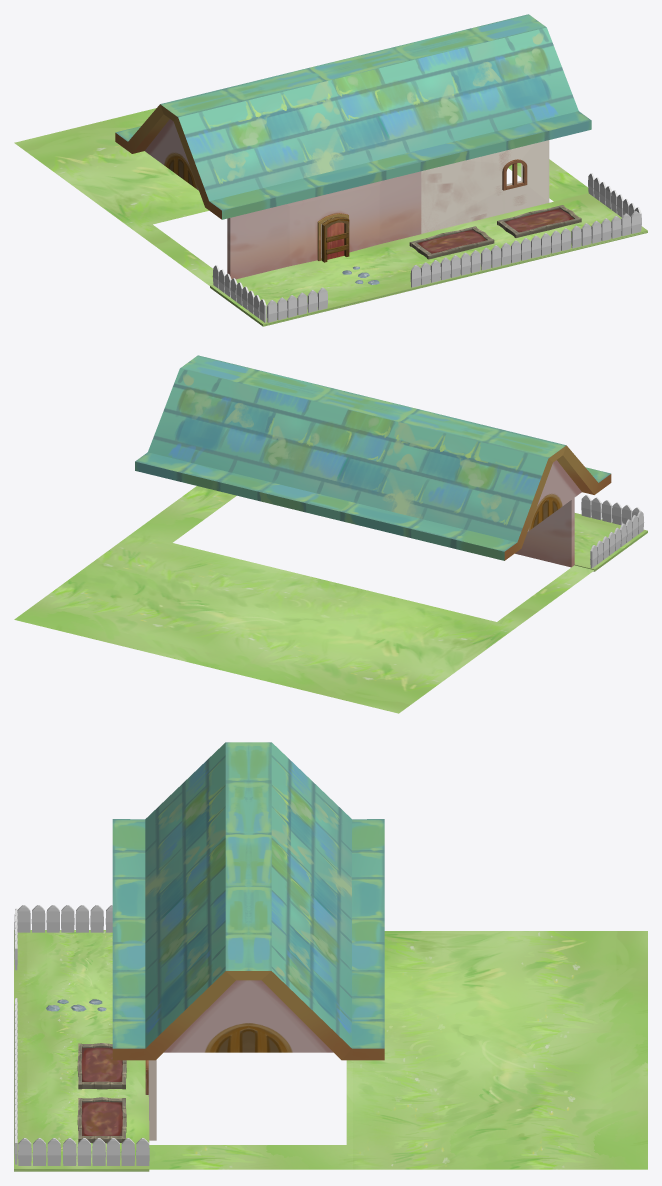
The model's file is Courtyard.fbx.
3 renders of one model, top to bottom at view 1: azimuth 30°, elevation 25°; view 2: azimuth 150°, elevation 25°; view 3: azimuth 270°, elevation 25°, orthographic. The views are drawn at different scales.
Visible parts, largest first — view 1: roof, YardFloor, Livingroom_Wall_Front, Fence, Bedroom_Wall_Front, Garden1, Garden2, Entrance; view 2: roof, YardFloor, Livingroom_Wall_Front, Fence; view 3: YardFloor, roof, Fence, Garden2, Garden1, Bedroom_Wall_Front.
Boxes of the visible parts, bbox=[...] form: roof: bbox=[115, 14, 591, 219]; YardFloor: bbox=[14, 108, 647, 326]; Livingroom_Wall_Front: bbox=[227, 171, 421, 279]; Fence: bbox=[212, 173, 641, 322]; Bedroom_Wall_Front: bbox=[421, 140, 549, 233]; Garden1: bbox=[409, 226, 494, 259]; Garden2: bbox=[497, 205, 581, 237]; Entrance: bbox=[321, 217, 349, 262]; roof: bbox=[135, 355, 611, 560]; YardFloor: bbox=[14, 486, 647, 713]; Livingroom_Wall_Front: bbox=[515, 498, 574, 567]; Fence: bbox=[581, 495, 644, 568]; YardFloor: bbox=[14, 930, 647, 1171]; roof: bbox=[112, 742, 384, 1060]; Fence: bbox=[14, 905, 149, 1165]; Garden2: bbox=[77, 1097, 126, 1143]; Garden1: bbox=[77, 1043, 126, 1089]; Bedroom_Wall_Front: bbox=[145, 1060, 156, 1140].
Size of the model in its own units: 2019 by 742 by 2251.
Materials: 18 (17 with a texture image).
